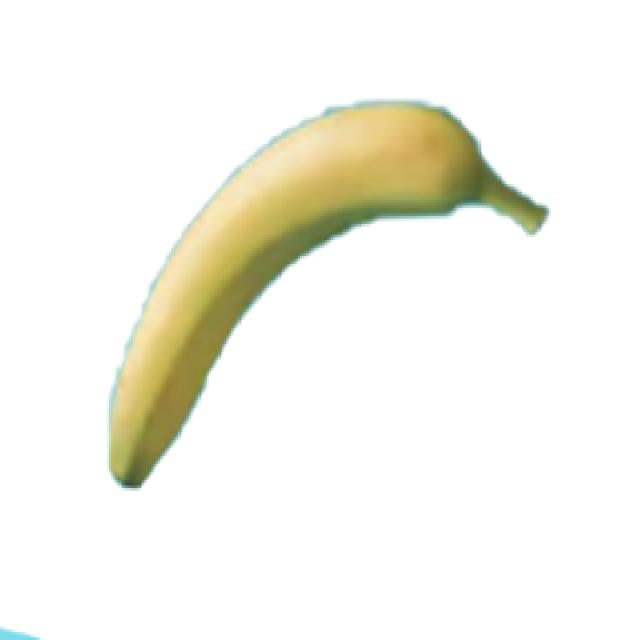fresh-banana: (104, 96, 549, 488)
